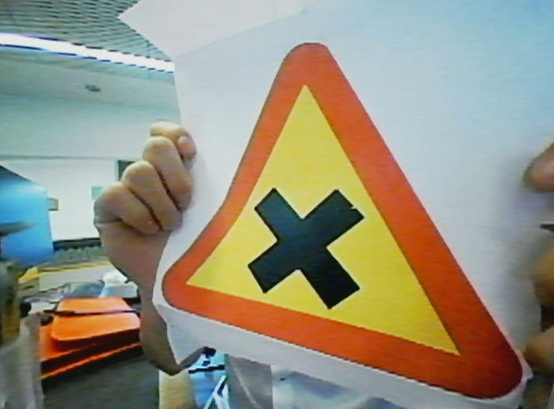junction: (179, 55, 533, 402)
